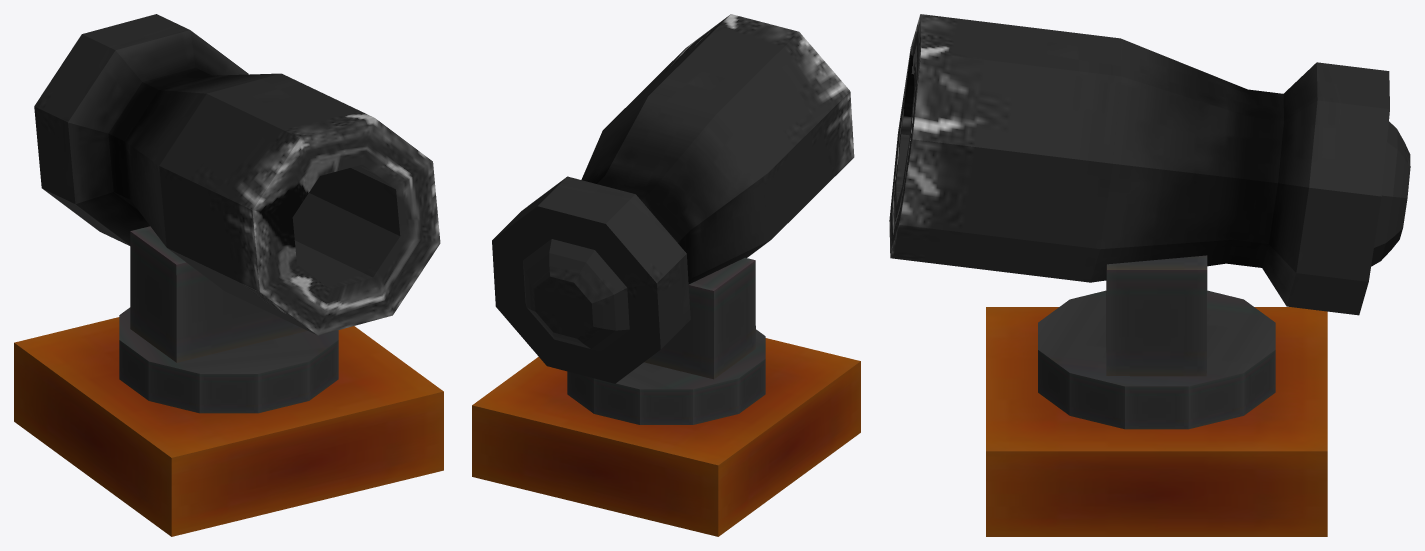
File: cannon.fbx
The picture shows the model from 3 angles, left to right: view 1: azimuth 30°, elevation 25°; view 2: azimuth 150°, elevation 25°; view 3: azimuth 270°, elevation 25°; orthographic projection. The views are drawn at different scales.
Visible parts, largest first — view 1: cannon, base_platform, base_disc, base_support; view 2: cannon, base_platform, base_disc, base_support; view 3: cannon, base_platform, base_disc, base_support.
Boxes of the visible parts, x1=… form: cannon: x1=34, y1=14, x2=440, y2=335; base_platform: x1=14, y1=317, x2=443, y2=536; base_disc: x1=119, y1=307, x2=338, y2=413; base_support: x1=130, y1=226, x2=307, y2=362; cannon: x1=492, y1=14, x2=854, y2=383; base_platform: x1=472, y1=338, x2=860, y2=536; base_disc: x1=567, y1=329, x2=765, y2=424; base_support: x1=644, y1=257, x2=755, y2=379; cannon: x1=889, y1=14, x2=1410, y2=315; base_platform: x1=986, y1=307, x2=1327, y2=536; base_disc: x1=1038, y1=290, x2=1275, y2=429; base_support: x1=1106, y1=255, x2=1207, y2=376.
Size of the model in its own units: 72.07 by 101 by 110.
2 materials, 2 textured.
